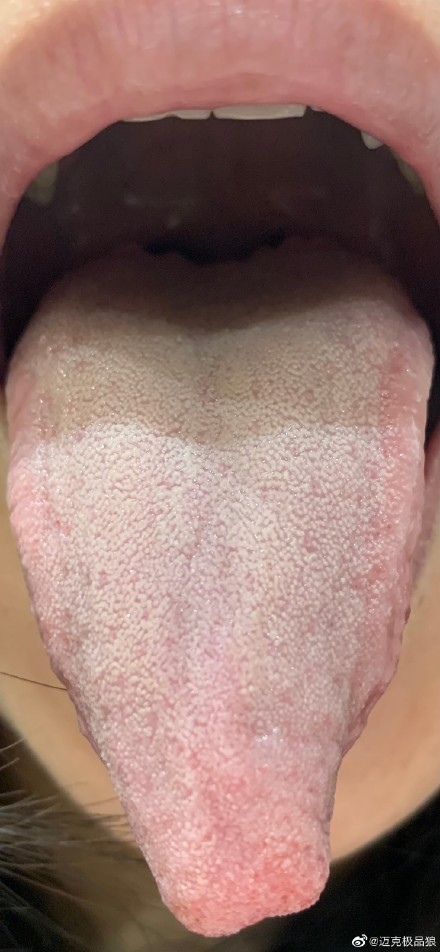baitaishe: (7, 240, 437, 937)
shenquao: (131, 241, 316, 286)
shoushe: (6, 241, 436, 938)
